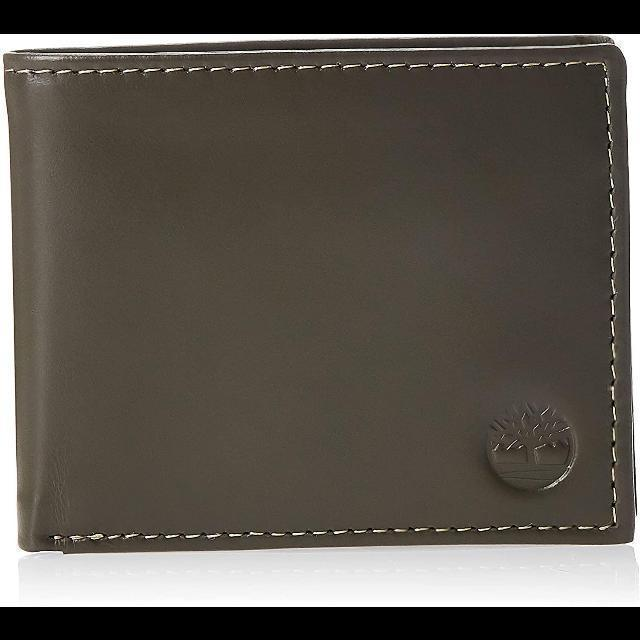wallet: (1, 34, 640, 552)
